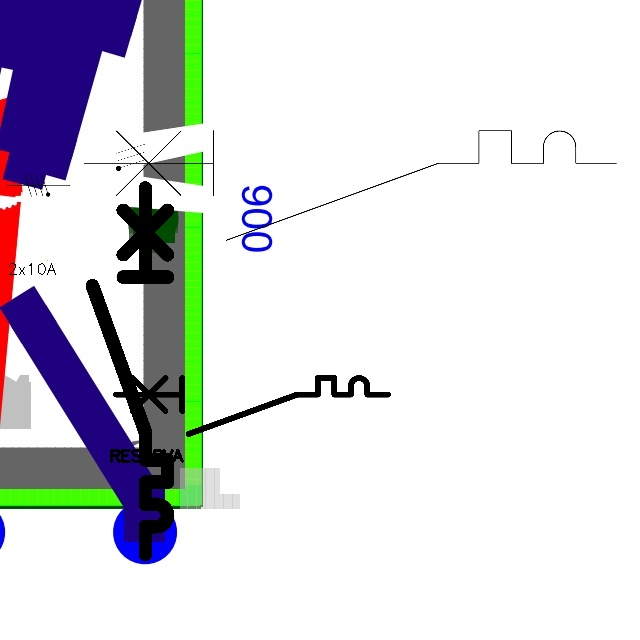interruptor_termomagnetico: (70, 117, 630, 254), (83, 178, 177, 564), (109, 371, 395, 441)
